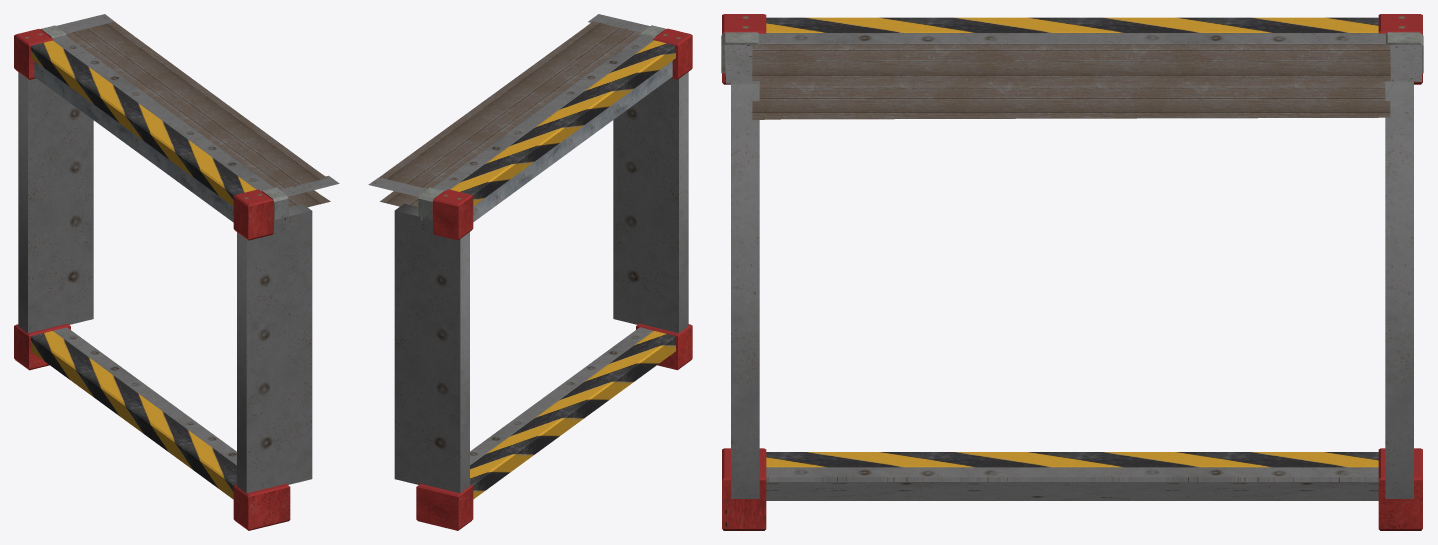
Rendered from Ob_HallwayEnd_RC.fbx.
3 views of the same model, side by side, from view 1: azimuth 30°, elevation 25°; view 2: azimuth 150°, elevation 25°; view 3: azimuth 270°, elevation 25° (orthographic). The views are drawn at different scales.
Parts seen in each view (by area): view 1: Ob_HallwayEnd_RC; view 2: Ob_HallwayEnd_RC; view 3: Ob_HallwayEnd_RC.
Part boxes in pixels (x1,y1,x2,y2): Ob_HallwayEnd_RC: (14,14,339,530); Ob_HallwayEnd_RC: (368,14,692,530); Ob_HallwayEnd_RC: (721,14,1423,530).
Size of the model in its own units: 399 by 1337 by 1744.
